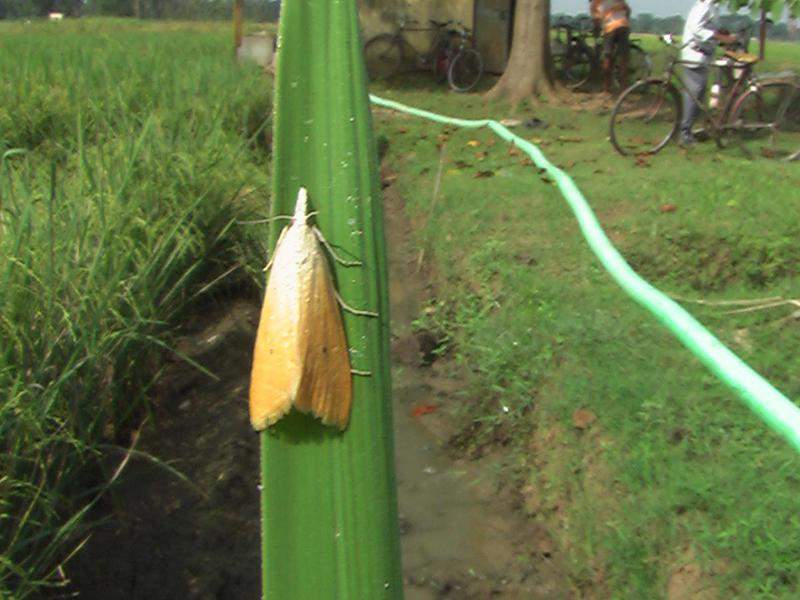Paddy_stemborer: (236, 185, 361, 454)
